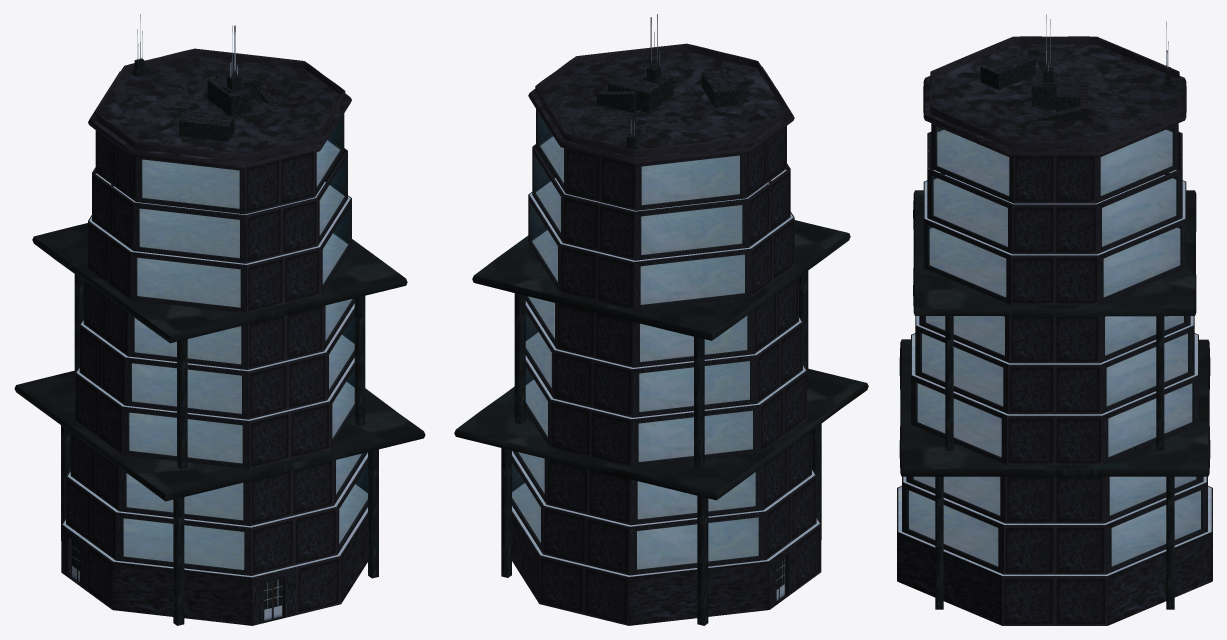
The model's file is bdoct7s.DAE.
The picture shows the model from 3 angles, left to right: view 1: azimuth 30°, elevation 25°; view 2: azimuth 150°, elevation 25°; view 3: azimuth 270°, elevation 25°; orthographic projection. The views are drawn at different scales.
Visible parts, largest first — view 1: building_baseWall10-Pivot, building_wallWindowGlass04, building_ledge03-Pivot, building_roofBase01-Pivot, Object02-Pivot, Object04-Pivot, building_roofWall01-Pivot, building_antenna02, building_door02; view 2: building_baseWall10-Pivot, building_wallWindowGlass04, building_ledge03-Pivot, building_roofBase01-Pivot, Object02-Pivot, Object04-Pivot, building_roofWall01-Pivot, building_antenna02, Object01; view 3: building_baseWall10-Pivot, building_wallWindowGlass04, building_ledge03-Pivot, building_roofBase01-Pivot, Object02-Pivot, Object04-Pivot, building_roofWall01-Pivot, building_antenna02, Object01.
Boxes of the visible parts, x1,y1,x2,y2 form: building_baseWall10-Pivot: (61,113,367,625); building_wallWindowGlass04: (96,116,367,570); building_ledge03-Pivot: (14,223,425,625); building_roofBase01-Pivot: (88,56,351,169); Object02-Pivot: (76,335,354,420); Object04-Pivot: (137,233,347,307); building_roofWall01-Pivot: (94,48,345,161); building_antenna02: (133,14,276,141); building_door02: (263,576,285,622); building_baseWall10-Pivot: (512,109,821,625); building_wallWindowGlass04: (512,112,785,570); building_ledge03-Pivot: (454,220,868,625); building_roofBase01-Pivot: (528,51,794,165); Object02-Pivot: (525,332,805,418); Object04-Pivot: (532,230,744,304); building_roofWall01-Pivot: (535,43,787,157); building_antenna02: (596,14,739,149); Object01: (526,313,550,390); building_baseWall10-Pivot: (897,123,1212,625); building_wallWindowGlass04: (907,126,1202,567); building_ledge03-Pivot: (899,190,1210,621); building_roofBase01-Pivot: (923,44,1186,157); Object02-Pivot: (912,333,1197,415); Object04-Pivot: (929,228,1180,296); building_roofWall01-Pivot: (930,36,1179,149); building_antenna02: (980,14,1171,120); Object01: (1106,332,1189,407).
Bounding box in the file's own units: 49.65 × 95.33 × 49.65.
3 materials, 3 textured.
